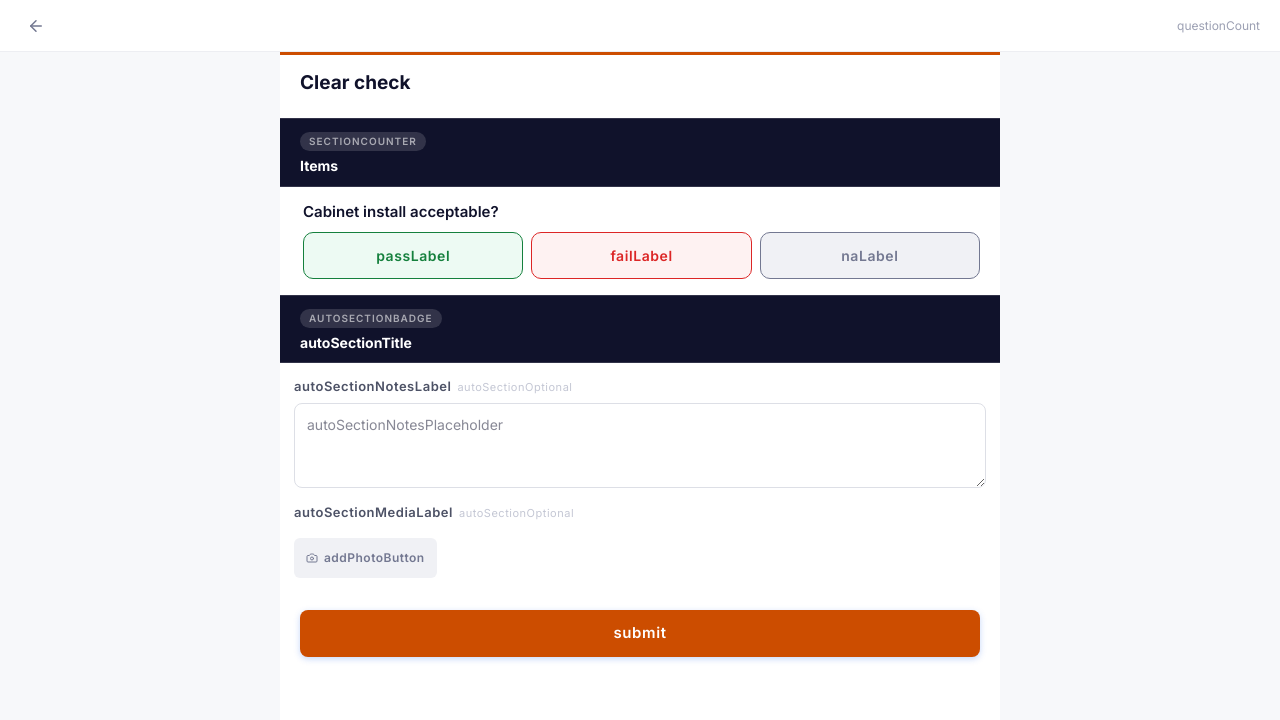
Test: FormFillClient draft registration › shows add-another-deficiency when allowAdditionalDeficiencies is true
Click the button "failLabel": click(641, 255) [531,232,752,279]
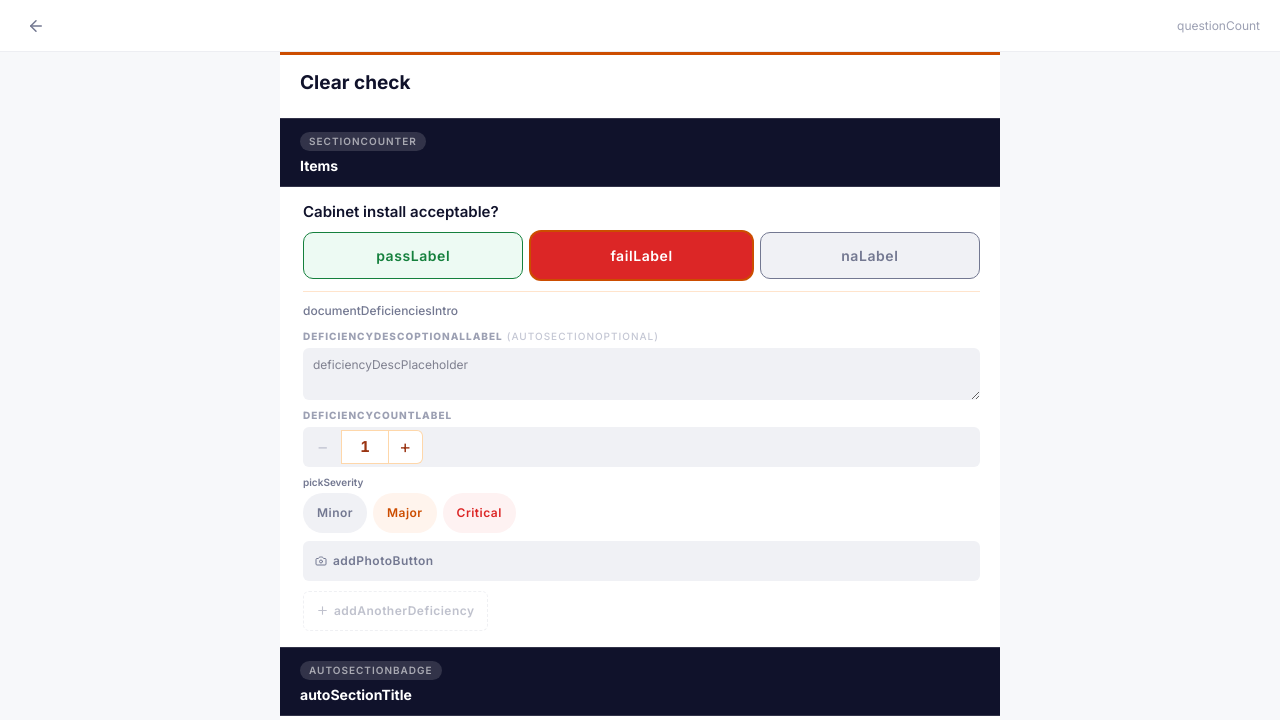
expect the button "addAnotherDeficiency" is shown: met, box [303,591,488,631]
